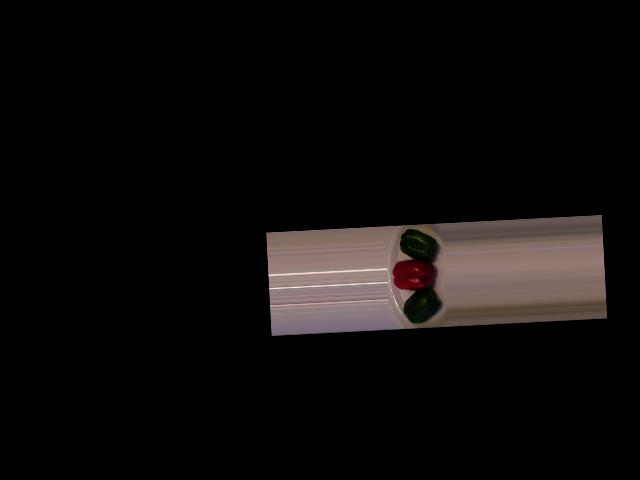bell_pepper: (397, 287, 444, 326)
